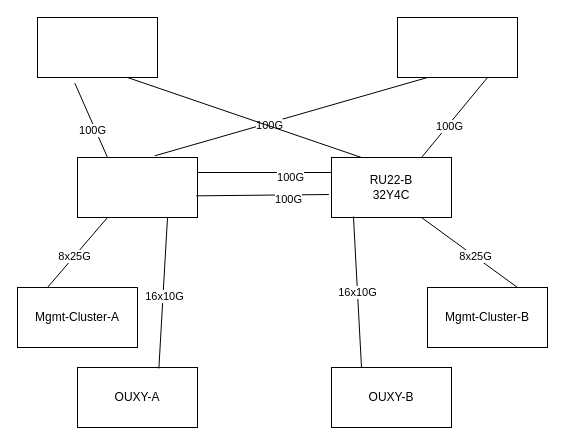
This 565x445 diagram has some shape labels left out. The shapes that lost their labels are listed below. From the top down, each one's centre as x and y in pixels, then its label:
At pixel 97 47: "RU00-A Arista 7280".
At pixel 457 47: "RU00-B Arista 7280".
At pixel 137 187: "RU22-A 32Y4C".
